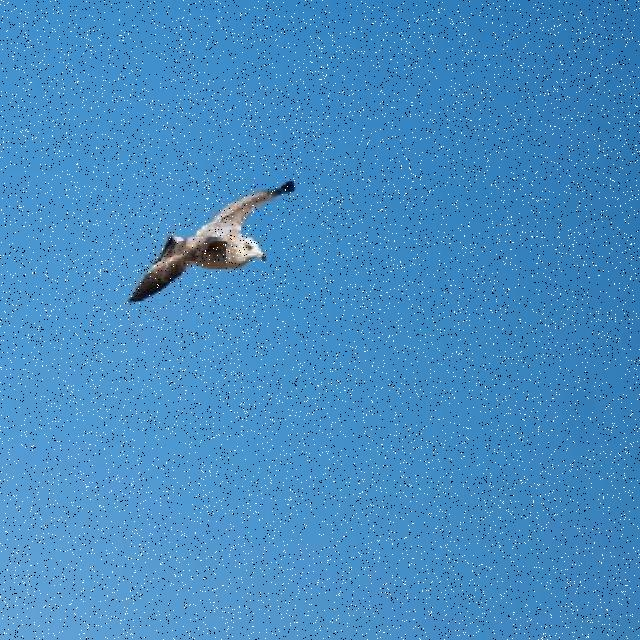bird: (127, 178, 296, 304)
